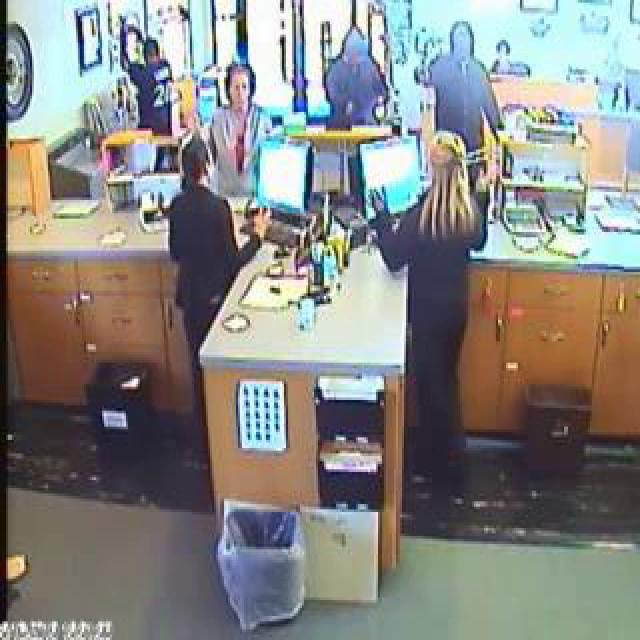robbery: (171, 0, 320, 321), (409, 20, 543, 303)
